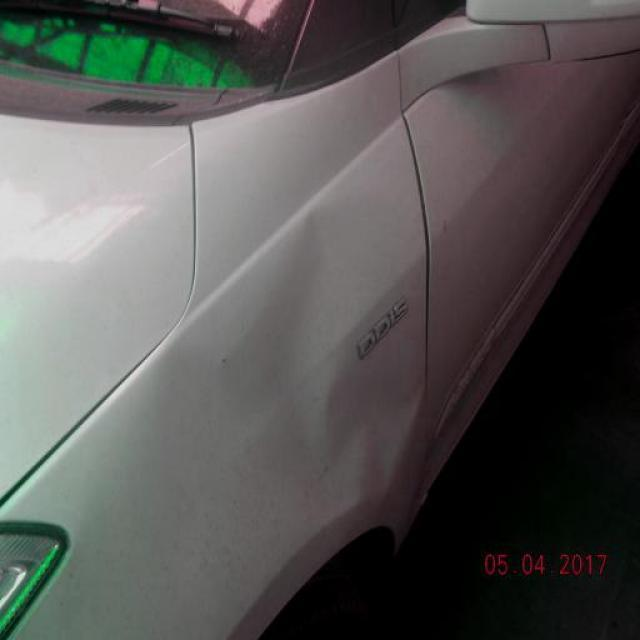car damage: (220, 208, 432, 519)
